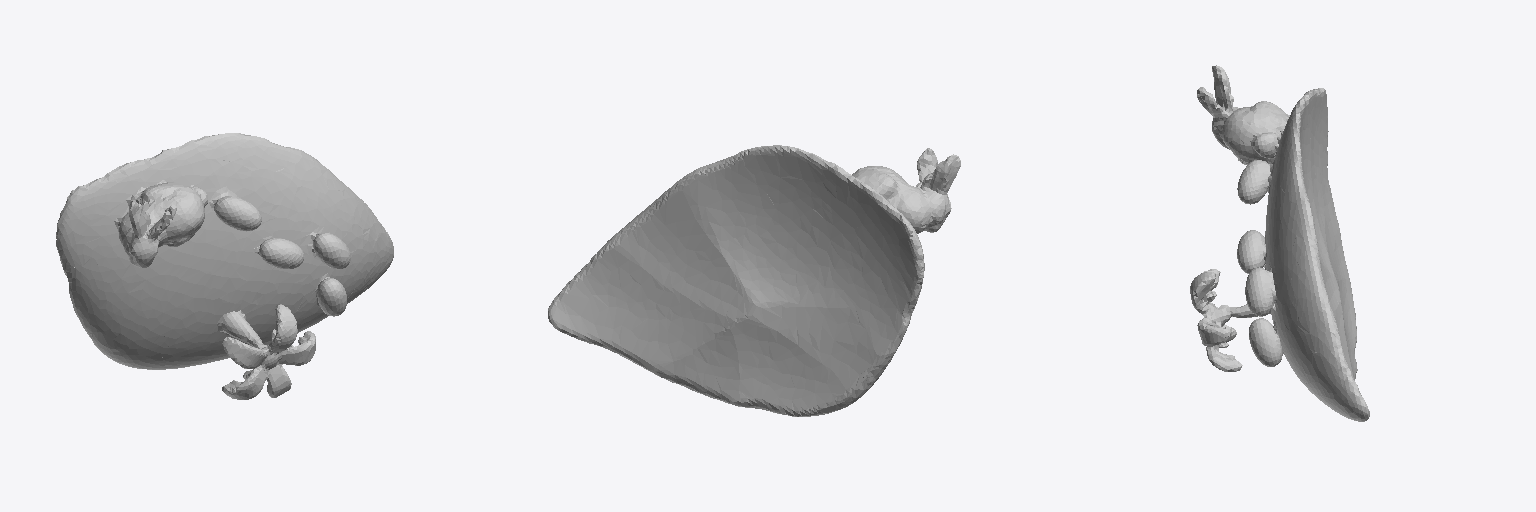
File: easterv.obj
3 renders of one model, left to right at view 1: azimuth 30°, elevation 25°; view 2: azimuth 150°, elevation 25°; view 3: azimuth 270°, elevation 25°, orthographic.
Parts seen in each view (by area): view 1: Layer_1; view 2: Layer_1; view 3: Layer_1.
Boxes of the visible parts, x1,y1,x2,y2 form: Layer_1: [56, 133, 393, 399]; Layer_1: [548, 145, 960, 416]; Layer_1: [1190, 65, 1369, 421].
Bounding box in the file's own units: 0.9937 × 0.6556 × 0.4347.